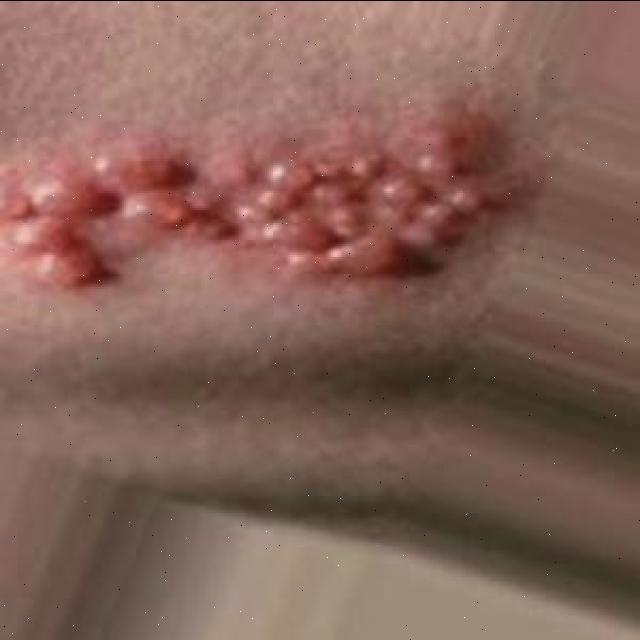Shingles: (1, 111, 525, 295)
